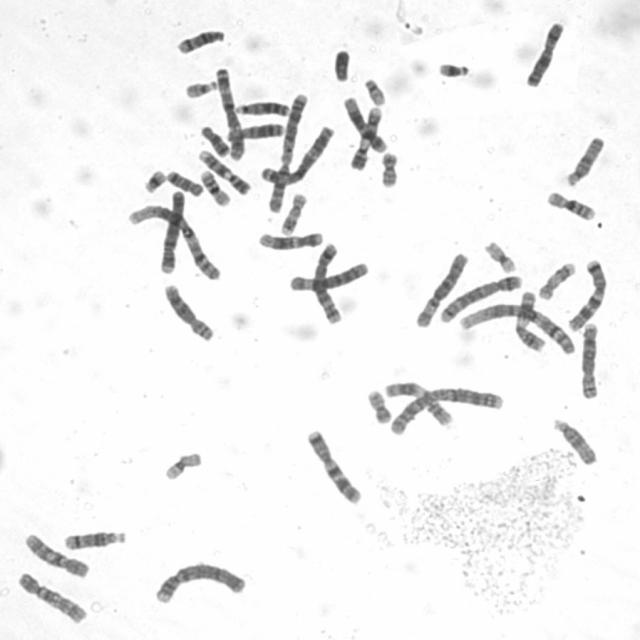A1: (122, 198, 224, 282), (455, 297, 579, 356)
A2: (384, 381, 504, 436), (263, 88, 311, 214)
A3: (256, 121, 336, 186), (210, 61, 246, 162)
B4: (149, 556, 247, 604), (154, 184, 188, 275)
B5: (434, 270, 524, 323), (309, 238, 345, 325)
C10: (12, 566, 88, 625), (19, 528, 91, 579)
C11: (380, 376, 455, 427), (512, 286, 548, 353)
C12: (338, 90, 388, 154), (253, 226, 325, 251)
C6: (410, 246, 470, 329), (284, 256, 370, 293)
C7: (301, 424, 364, 505), (563, 254, 609, 333)
C8: (158, 278, 216, 342), (575, 316, 602, 401)
C9: (192, 145, 252, 196), (346, 103, 386, 171)
D13: (221, 119, 286, 143), (231, 96, 291, 117)
D14: (58, 524, 128, 552), (171, 24, 227, 55)
D15: (548, 412, 600, 467), (560, 130, 607, 188)
E16: (542, 186, 598, 221), (195, 165, 232, 207)
E17: (534, 256, 577, 302), (275, 187, 309, 235)
E18: (162, 164, 204, 198), (195, 119, 231, 158)
F19: (158, 446, 204, 482), (479, 235, 518, 274)
F20: (362, 384, 393, 425), (375, 146, 400, 188)
G21: (138, 163, 168, 194), (432, 56, 472, 79)
G22: (180, 75, 220, 99), (359, 73, 388, 106)
X: (520, 15, 567, 88)
Y: (328, 44, 352, 82)
